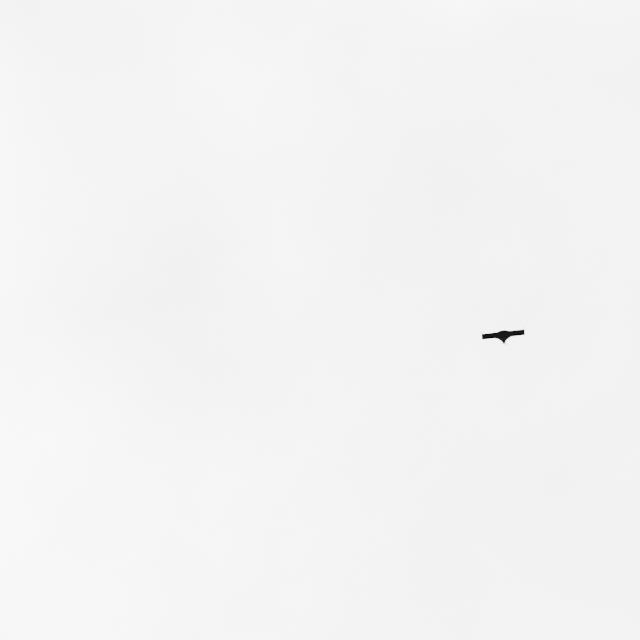Airaplan: (481, 327, 524, 345)
